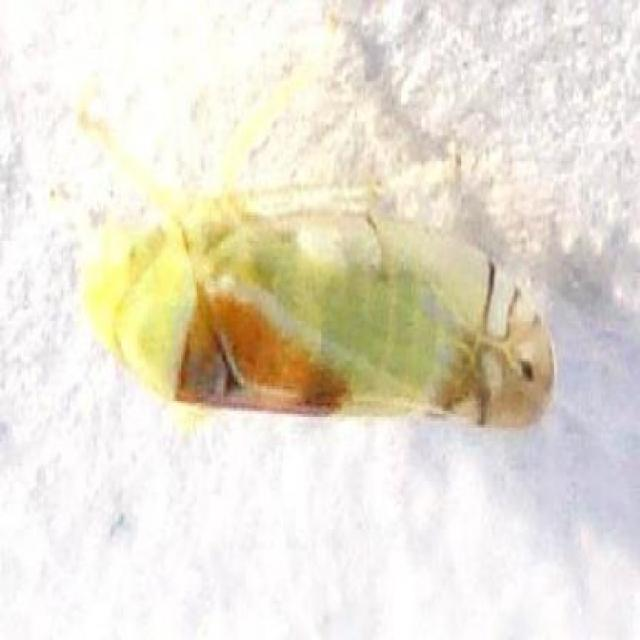green-leafhopper: (94, 160, 554, 414)
